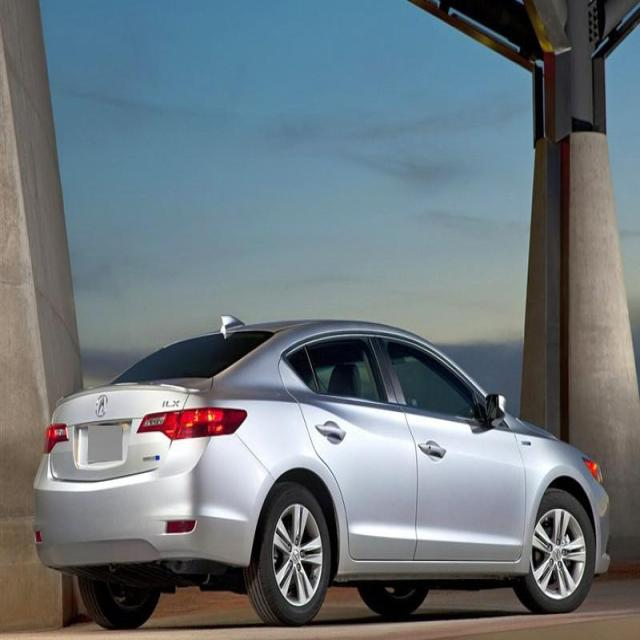back_glass: (107, 328, 278, 391)
back_left_side_light: (43, 420, 69, 459)
back_right_side_light: (134, 406, 249, 442)
door: (282, 331, 422, 571)
front_right_side_door: (374, 326, 527, 566)
front_right_side_light: (582, 454, 606, 490)
front_right_side_mirror: (483, 388, 508, 436)
rear_bumper: (33, 444, 275, 566)
wheel: (247, 482, 330, 622), (516, 489, 596, 608), (74, 571, 162, 631)
